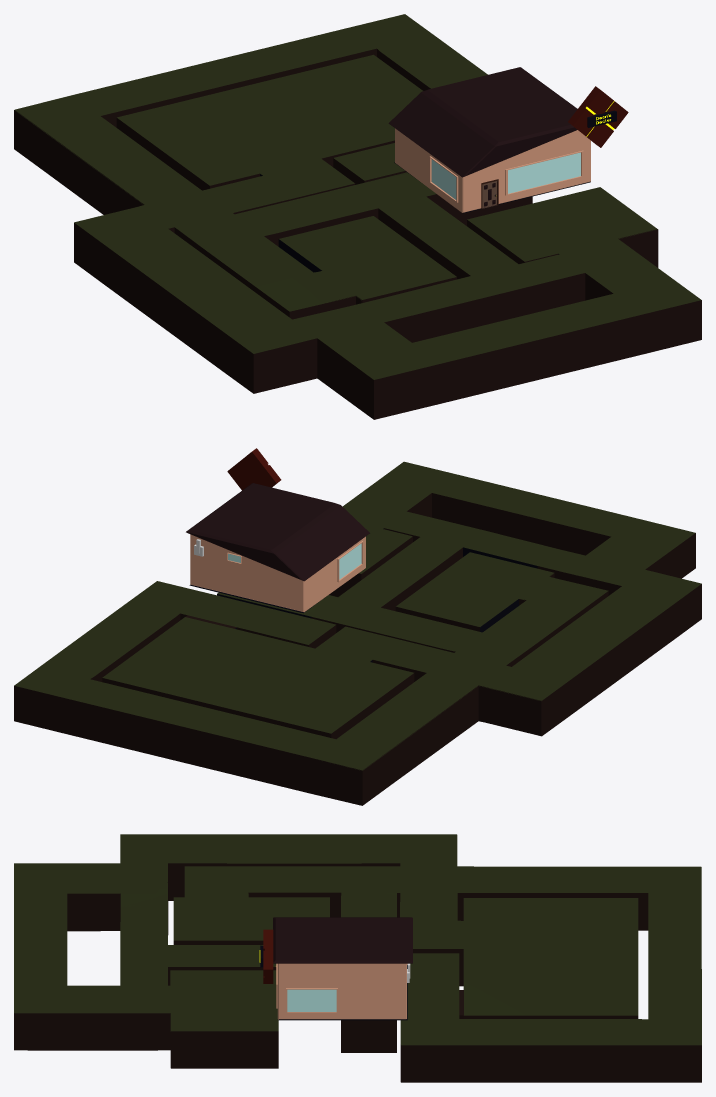
File: Dealership concept.fbx
3 renders of one model, top to bottom at view 1: azimuth 30°, elevation 25°; view 2: azimuth 150°, elevation 25°; view 3: azimuth 270°, elevation 25°, orthographic. The views are drawn at different scales.
Parts seen in each view (by area): view 1: Plane, roof guide, Cube.001; view 2: Plane, roof guide, Cube.001; view 3: Plane, roof guide, Cube.001.
Part boxes in pixels (box(x1,y1,x2,y2)): Plane: box(14, 14, 701, 419); roof guide: box(388, 67, 577, 177); Cube.001: box(568, 86, 628, 147); Plane: box(14, 461, 701, 805); roof guide: box(186, 483, 369, 581); Cube.001: box(227, 448, 281, 490); Plane: box(14, 834, 701, 1082); roof guide: box(273, 917, 412, 963); Cube.001: box(260, 929, 273, 983).
Size of the model in its own units: 4514 by 1353 by 6216.
